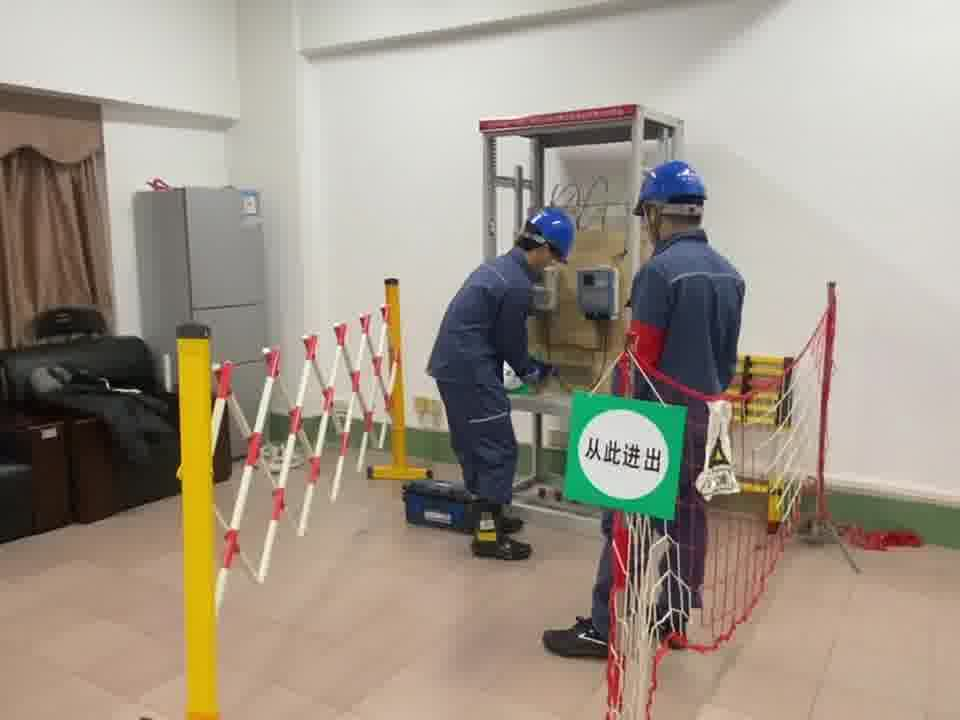badge: (623, 314, 663, 370)
downsuit: (434, 389, 522, 506)
glove: (519, 363, 544, 387)
halt: (636, 160, 711, 233), (530, 208, 578, 265)
inear: (643, 203, 667, 235)
intosign: (561, 386, 691, 532)
noear: (533, 239, 550, 261)
person: (563, 158, 753, 661), (420, 203, 581, 567)
shoe: (465, 499, 536, 560)
upsuit: (622, 233, 748, 391), (431, 250, 537, 387)
